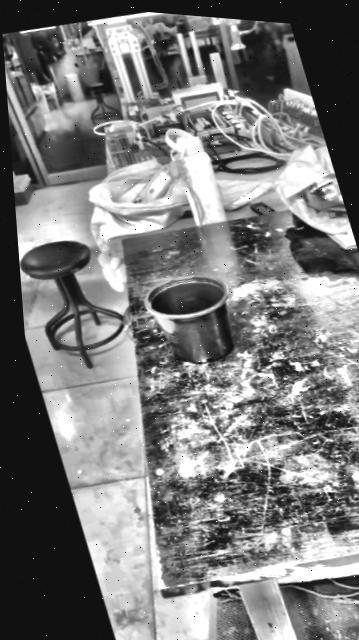pot: (140, 265, 247, 374)
